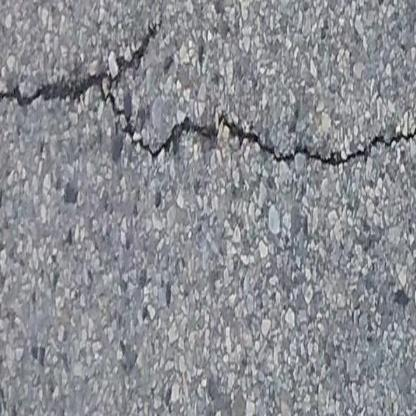Cracks: (0, 59, 416, 186), (127, 0, 201, 115)
